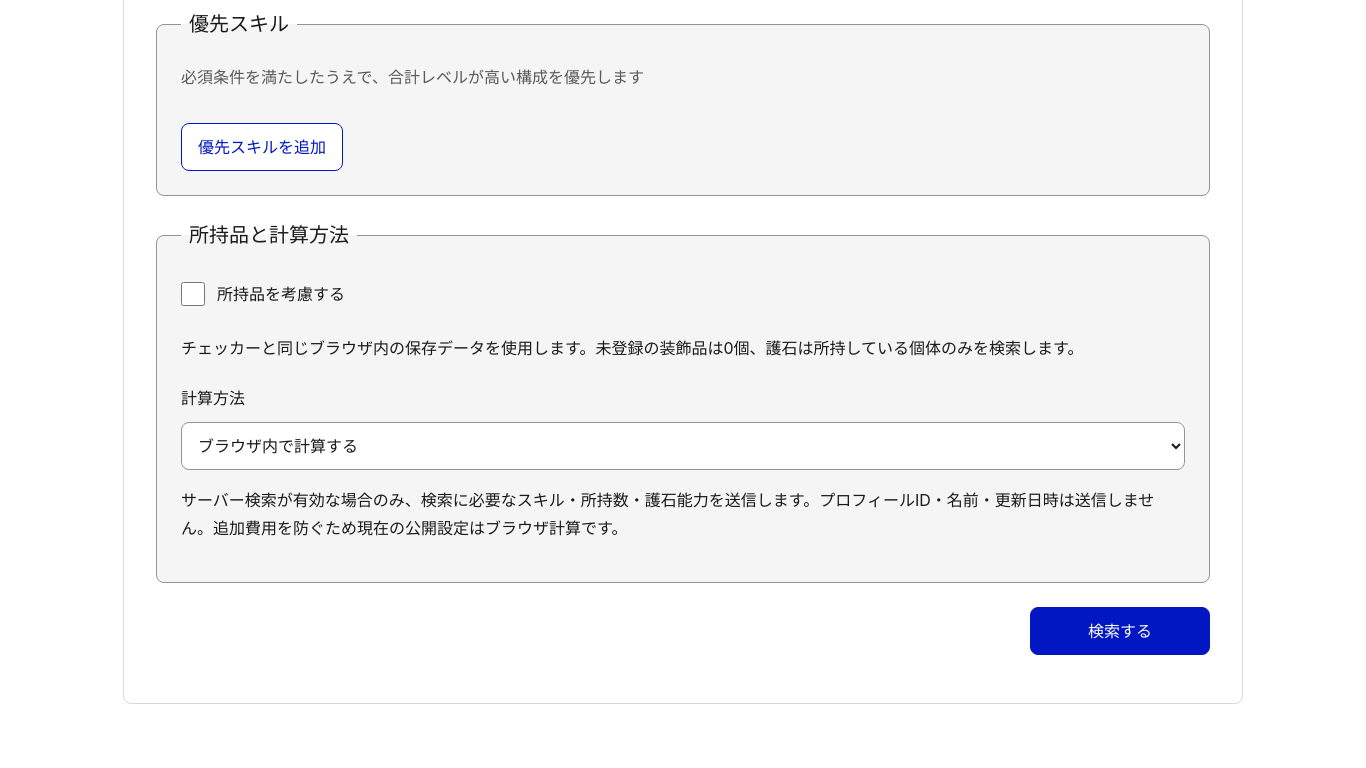
search states and results › keeps candidate API order and renders part, ID, decoration, slot, and skill fallbacks without mutation
(page scrolled)
Click the button "検索する" at (1120, 631), box [1030, 607, 1210, 655]
(page scrolled)
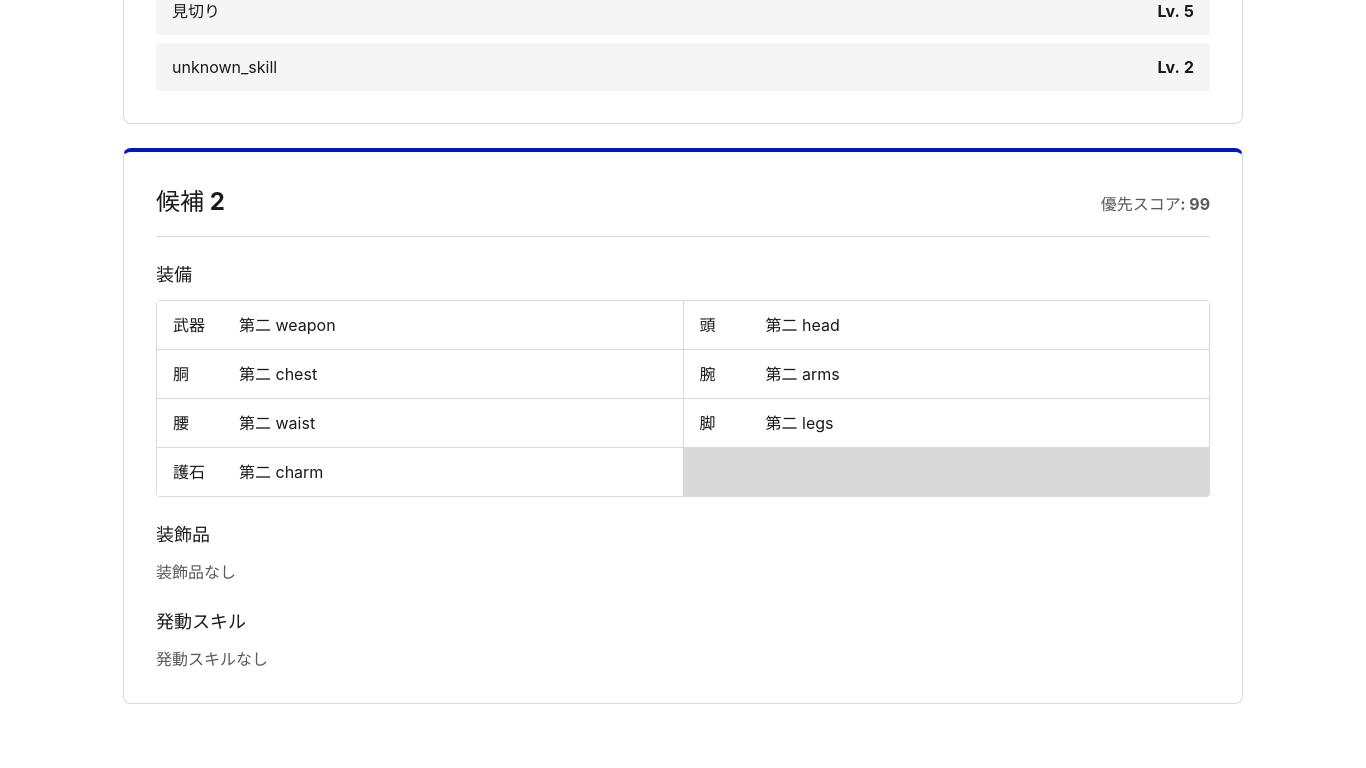
Now the heading "候補 2" is shown, box [156, 184, 225, 220]
Now the text "優先スコア: 99" is shown, box [1101, 192, 1210, 216]
Now the text "見切り" is shown, box [172, 0, 220, 23]
